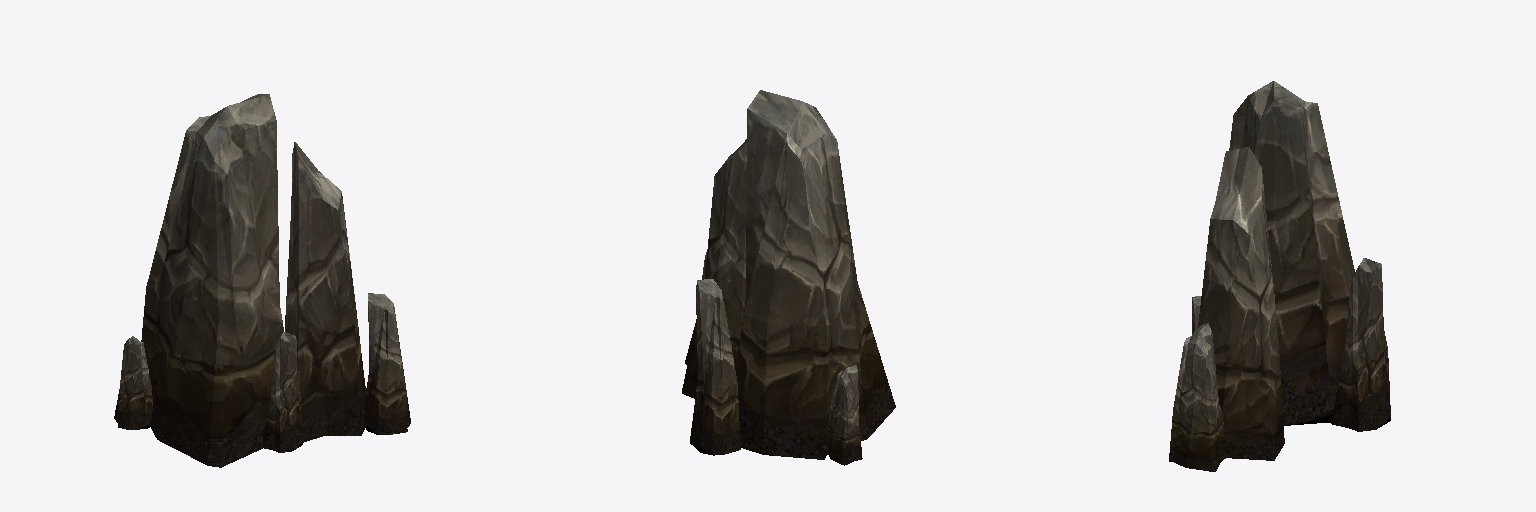
The picture shows the model from 3 angles: view 1: azimuth 30°, elevation 25°; view 2: azimuth 150°, elevation 25°; view 3: azimuth 270°, elevation 25°; orthographic projection.
Visible parts, largest first — view 1: borean_rocklarge_05; view 2: borean_rocklarge_05; view 3: borean_rocklarge_05.
Boxes of the visible parts, box(x1,y1,x2,y2) form: borean_rocklarge_05: box(114, 94, 410, 467); borean_rocklarge_05: box(682, 90, 895, 465); borean_rocklarge_05: box(1169, 81, 1390, 471).
Size of the model in its own units: 6.97 by 9.25 by 5.77.
Materials: 1 (1 with a texture image).